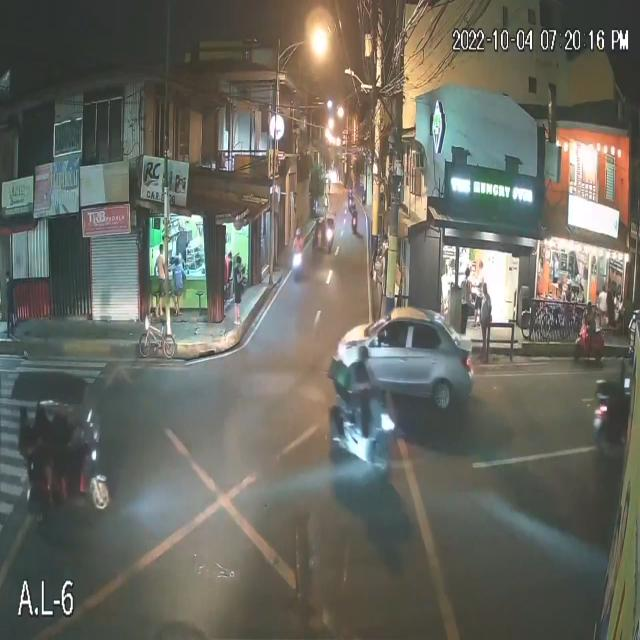Full-Faced: (354, 342, 372, 368)
